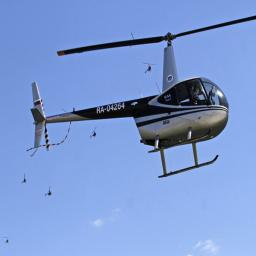helicopter: (24, 1, 251, 186), (19, 171, 35, 191), (143, 61, 158, 79), (44, 184, 57, 201), (89, 127, 101, 143), (2, 236, 14, 248)
